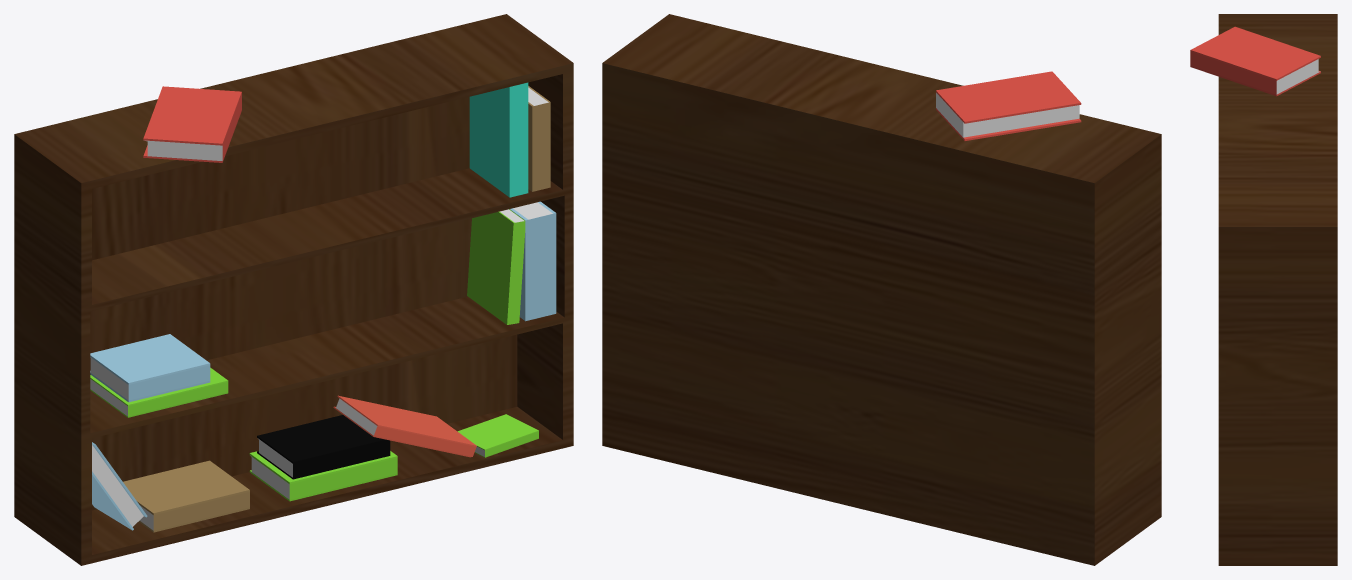
File: Bibliothèque3.fbx
The picture shows the model from 3 angles, left to right: view 1: azimuth 30°, elevation 25°; view 2: azimuth 150°, elevation 25°; view 3: azimuth 270°, elevation 25°; orthographic projection. The views are drawn at different scales.
Visible parts, largest first — view 1: Bibliothèque3; view 2: Bibliothèque3; view 3: Bibliothèque3.
Part boxes in pixels (box(x1,y1,x2,y2)): Bibliothèque3: box(14, 14, 573, 565); Bibliothèque3: box(602, 14, 1161, 565); Bibliothèque3: box(1190, 14, 1337, 565).
Bounding box in the file's own units: 1144 × 895 × 334.
